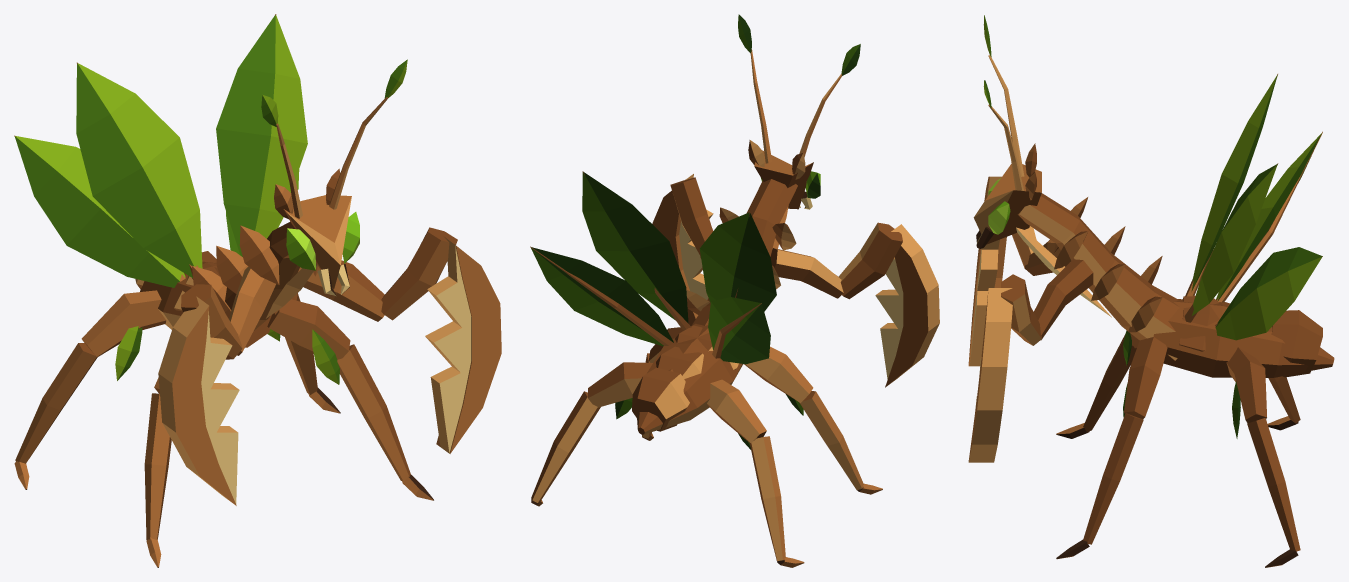
File: mantis-study-v3.glb
3 renders of one model, left to right at view 1: azimuth 30°, elevation 25°; view 2: azimuth 150°, elevation 25°; view 3: azimuth 270°, elevation 25°, orthographic. The views are drawn at different scales.
Parts seen in each view (by area): view 1: Leaf wing wing-1_0, Leaf wing wing1_0, Leaf wing wing-1_1, Broad continuous wood hook -1, Continuous ivory serrated edge 1, Broad continuous wood hook 1, Continuous ivory serrated edge -1, Walking tibia leg1_0, Triangular mantis head, Raised raptorial forearm 1, Walking femur leg-1_1, Walking tibia leg-1_1 (+18 smaller); view 2: Leaf wing wing1_0, Leaf wing wing-1_0, Leaf wing wing1_1, Broad continuous wood hook -1, Leaf wing wing-1_1, Abdomen core, Raised raptorial forearm -1, Abdominal tergite 2, Walking tibia leg-1_1, Walking tibia leg1_1, Rising prothorax, Walking femur leg-1_1 (+13 smaller); view 3: Rising prothorax, Abdomen core, Leaf wing wing1_1, Broad continuous wood hook 1, Leaf wing wing1_0, Leaf wing wing-1_0, Walking tibia leg1_1, Walking tibia leg1_0, Walking femur leg1_0, Triangular mantis head, Leaf wing wing-1_1, Abdominal tergite 2 (+17 smaller).
Boxes of the visible parts, x1=… form: Leaf wing wing-1_0: x1=76, y1=63, x2=202, y2=277; Leaf wing wing1_0: x1=216, y1=15, x2=307, y2=256; Leaf wing wing-1_1: x1=14, y1=136, x2=185, y2=287; Broad continuous wood hook -1: x1=158, y1=296, x2=236, y2=505; Continuous ivory serrated edge 1: x1=425, y1=238, x2=471, y2=453; Broad continuous wood hook 1: x1=436, y1=237, x2=501, y2=453; Continuous ivory serrated edge -1: x1=201, y1=311, x2=239, y2=504; Walking tibia leg1_0: x1=337, y1=344, x2=410, y2=481; Triangular mantis head: x1=283, y1=195, x2=351, y2=289; Raised raptorial forearm 1: x1=381, y1=227, x2=457, y2=320; Walking femur leg-1_1: x1=81, y1=290, x2=166, y2=357; Walking tibia leg-1_1: x1=15, y1=343, x2=97, y2=463; Leaf wing wing1_0: x1=582, y1=172, x2=688, y2=323; Leaf wing wing-1_0: x1=699, y1=212, x2=776, y2=311; Leaf wing wing1_1: x1=531, y1=247, x2=673, y2=346; Broad continuous wood hook -1: x1=885, y1=224, x2=939, y2=387; Leaf wing wing-1_1: x1=708, y1=297, x2=770, y2=364; Abdomen core: x1=637, y1=323, x2=743, y2=434; Raised raptorial forearm -1: x1=838, y1=222, x2=902, y2=299; Abdominal tergite 2: x1=632, y1=367, x2=689, y2=431; Walking tibia leg-1_1: x1=749, y1=436, x2=785, y2=561; Walking tibia leg1_1: x1=531, y1=391, x2=600, y2=502; Rising prothorax: x1=691, y1=179, x2=797, y2=326; Walking femur leg-1_1: x1=707, y1=379, x2=766, y2=443; Rising prothorax: x1=1017, y1=193, x2=1179, y2=360; Abdomen core: x1=1153, y1=299, x2=1334, y2=377; Leaf wing wing1_1: x1=1215, y1=247, x2=1322, y2=340; Broad continuous wood hook 1: x1=968, y1=288, x2=1012, y2=462; Leaf wing wing1_0: x1=1192, y1=164, x2=1277, y2=315; Leaf wing wing-1_0: x1=1191, y1=75, x2=1277, y2=291; Walking tibia leg1_1: x1=1247, y1=418, x2=1300, y2=551; Walking tibia leg1_0: x1=1083, y1=413, x2=1143, y2=544; Walking femur leg1_0: x1=1124, y1=337, x2=1167, y2=419; Triangular mantis head: x1=973, y1=164, x2=1041, y2=244; Leaf wing wing-1_1: x1=1216, y1=133, x2=1321, y2=300; Abdominal tergite 2: x1=1271, y1=310, x2=1322, y2=377.
Bounding box in the file's own units: 2.74 × 3.88 × 2.86.
